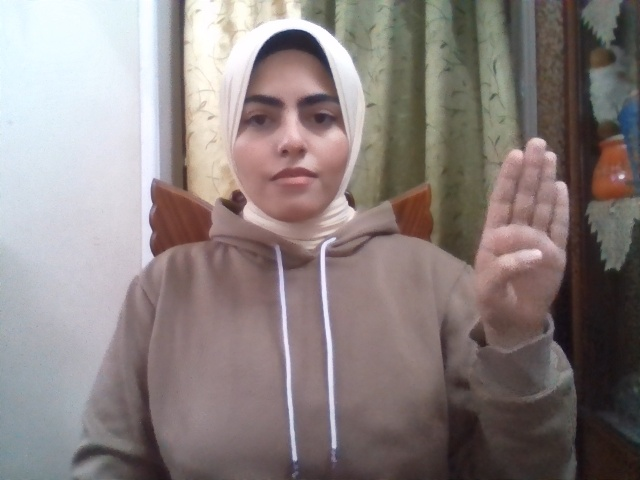B: (474, 136, 570, 335)
